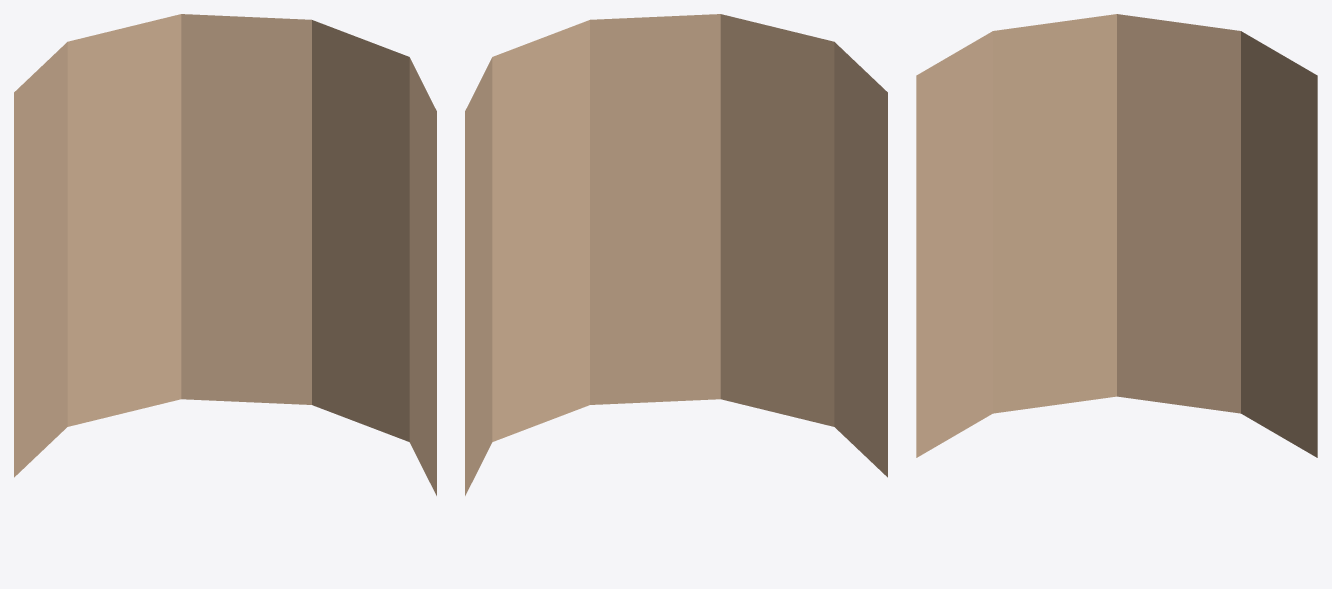
File: lantern_01.glb
3 views of the same model, side by side, from view 1: azimuth 30°, elevation 25°; view 2: azimuth 150°, elevation 25°; view 3: azimuth 270°, elevation 25° (orthographic).
Visible parts, largest first — view 1: 纸灯笼; view 2: 纸灯笼; view 3: 纸灯笼.
Boxes of the visible parts, left/top/right/bottom form: 纸灯笼: left=14, top=14, right=436, bottom=495; 纸灯笼: left=465, top=14, right=887, bottom=495; 纸灯笼: left=916, top=14, right=1317, bottom=457.
Bounding box in the file's own units: 1 × 1 × 0.9511.
